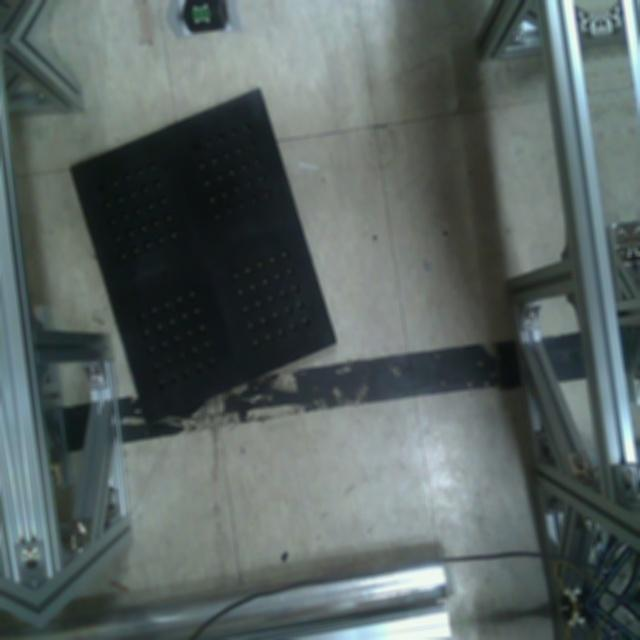pallet: (58, 78, 350, 434)
